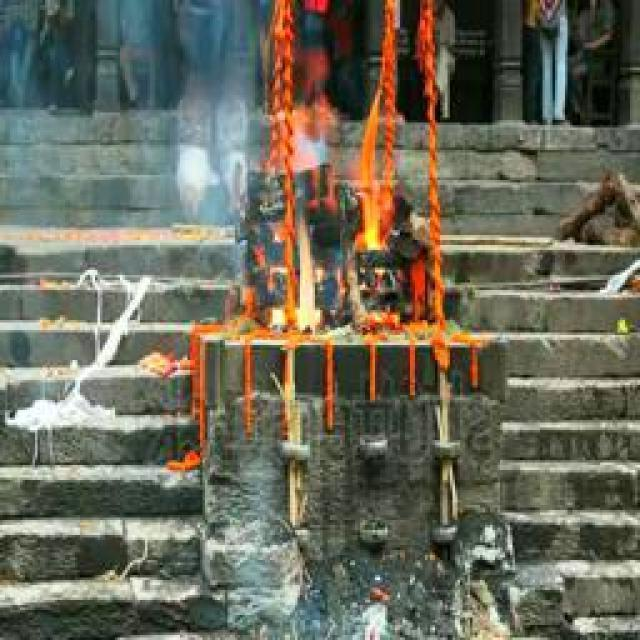Fire: (276, 103, 398, 341)
